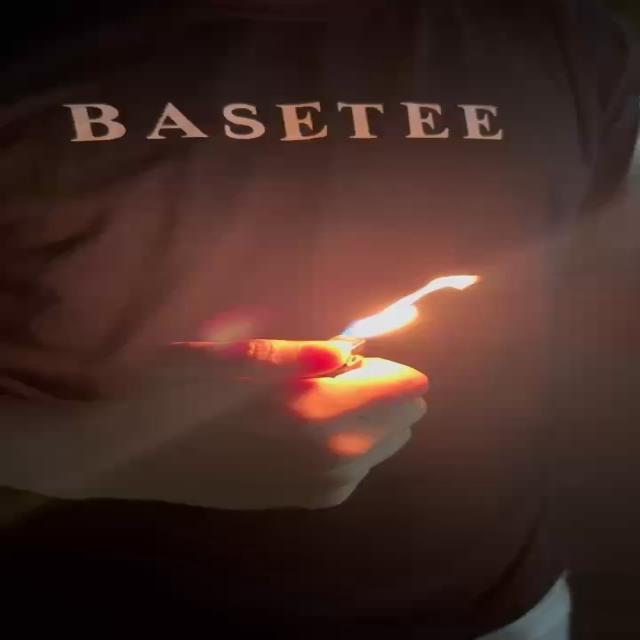Fire: (342, 275, 483, 344)
